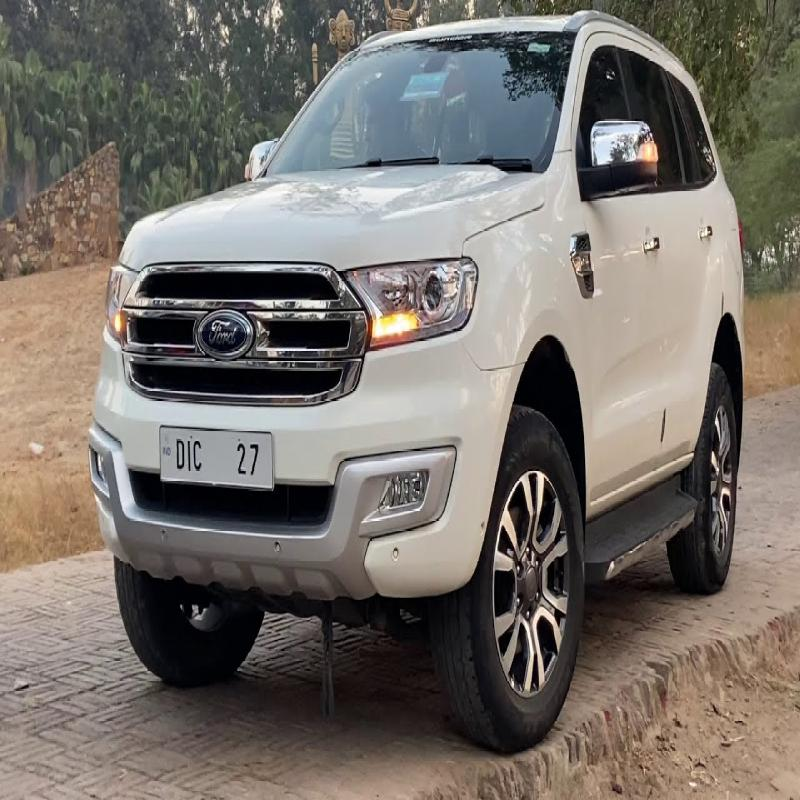car: (41, 18, 764, 719)
